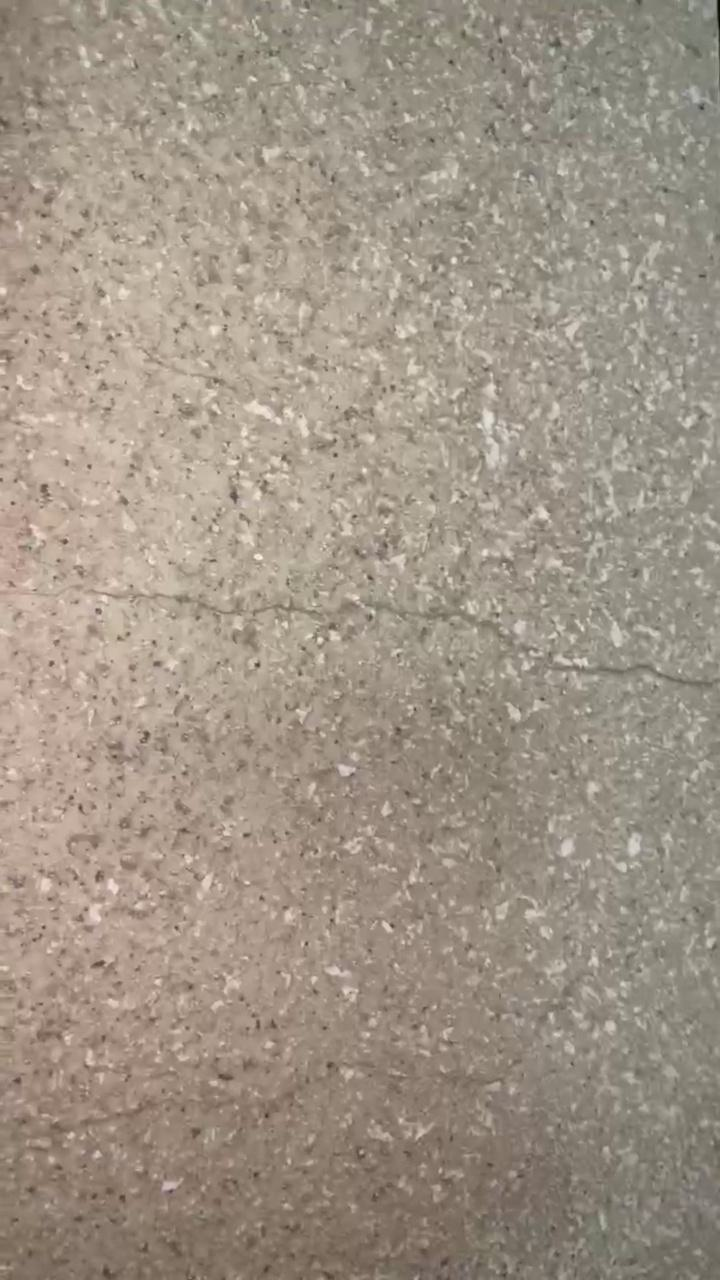Crack: (1, 968, 594, 1145), (1, 582, 720, 690)
